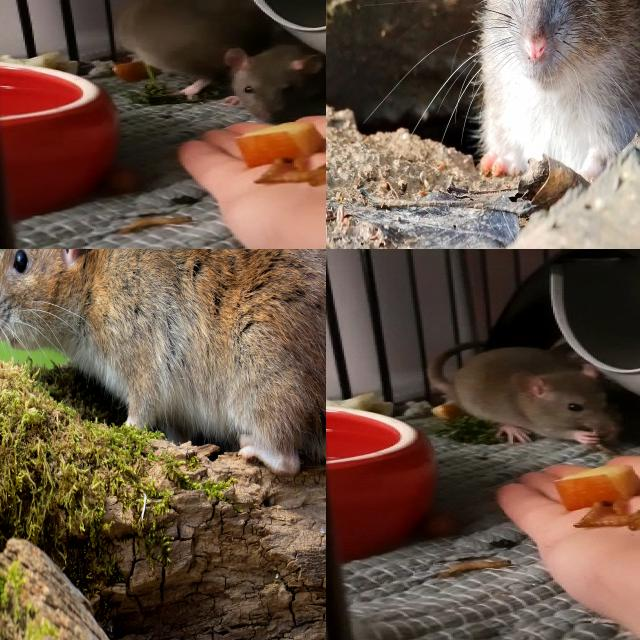rat: (0, 249, 326, 472), (480, 0, 640, 182), (456, 347, 622, 455), (116, 0, 279, 96), (218, 39, 326, 120)
